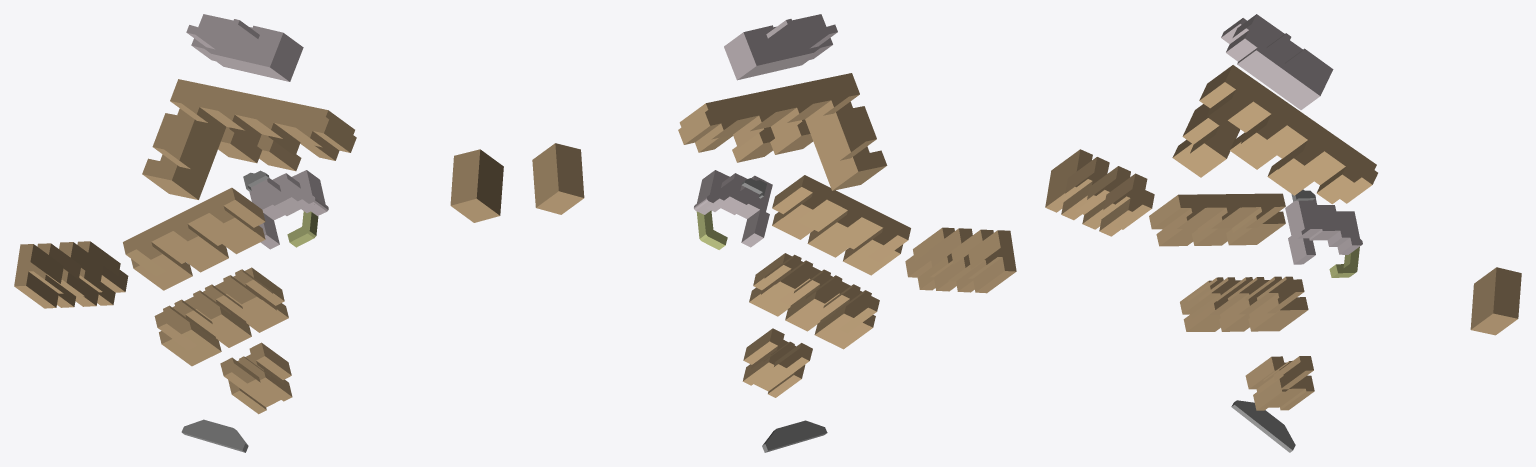
3 views of the same model, side by side, from view 1: azimuth 30°, elevation 25°; view 2: azimuth 150°, elevation 25°; view 3: azimuth 330°, elevation 25° (orthographic). The views are drawn at different scales.
Parts seen in each view (by area): view 1: 0_1_0_0_0_1_1; view 2: 0_1_0_0_0_1_1; view 3: 0_1_0_0_0_1_1.
Part boxes in pixels (<box>): 0_1_0_0_0_1_1: <box>14,14,503,452</box>; 0_1_0_0_0_1_1: <box>532,14,1016,452</box>; 0_1_0_0_0_1_1: <box>1045,14,1521,452</box>.
Bounding box in the file's own units: 240 × 219 × 27.8.
